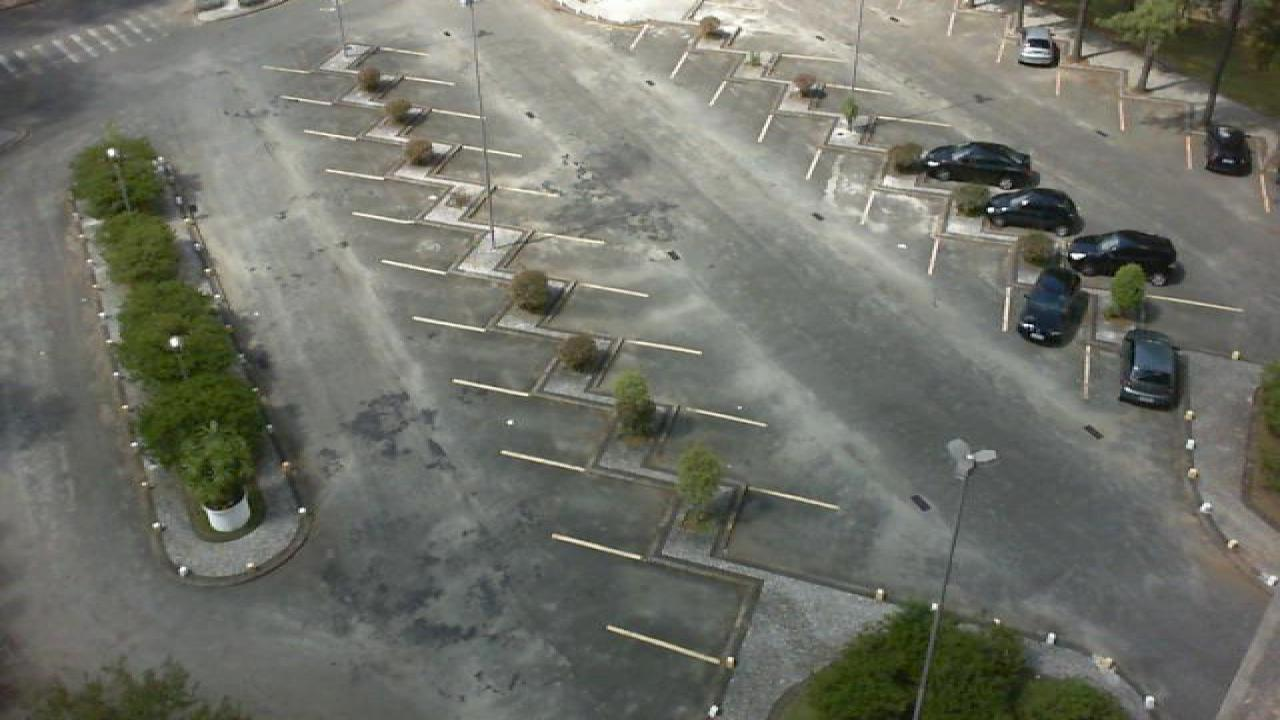Car: (1064, 228, 1184, 284), (918, 141, 1038, 190), (1016, 264, 1086, 346), (1116, 327, 1186, 408), (980, 187, 1084, 236), (1204, 124, 1252, 176), (1014, 26, 1060, 67)
